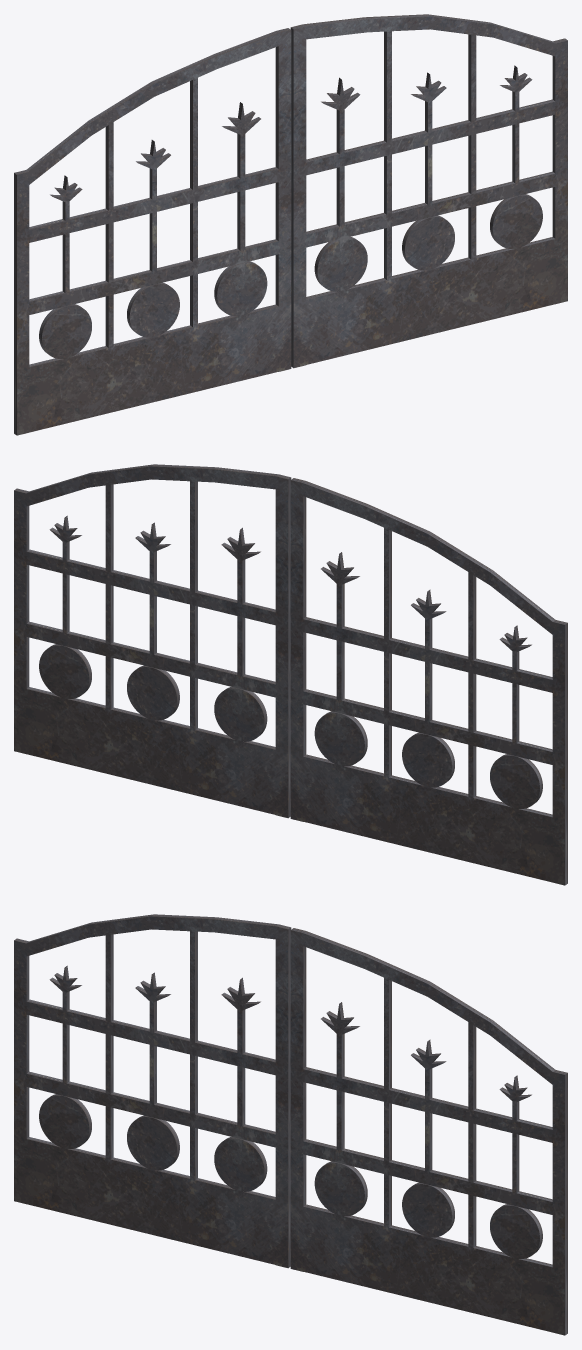
File: port.fbx
3 renders of one model, top to bottom at view 1: azimuth 30°, elevation 25°; view 2: azimuth 150°, elevation 25°; view 3: azimuth 330°, elevation 25°, orthographic.
Visible parts, largest first — view 1: Cap_2_2, Cap_1, gate_1, gate_2; view 2: Cap_1_2, Cap_2, gate_1, gate_2; view 3: Cap_1, Cap_2_2, gate_2, gate_1.
Part boxes in pixels (x1,y1,x2,y2): Cap_2_2: [17, 30, 291, 435]; Cap_1: [293, 16, 567, 367]; gate_1: [14, 28, 290, 435]; gate_2: [290, 14, 567, 367]; Cap_1_2: [290, 480, 564, 885]; Cap_2: [14, 466, 288, 817]; gate_1: [291, 478, 567, 885]; gate_2: [14, 464, 291, 817]; Cap_1: [290, 930, 564, 1335]; Cap_2_2: [14, 916, 288, 1267]; gate_2: [291, 928, 567, 1335]; gate_1: [14, 914, 291, 1267].
Bounding box in the file's own units: 756 × 444 × 6.96.
Materials: 1 (1 with a texture image).
